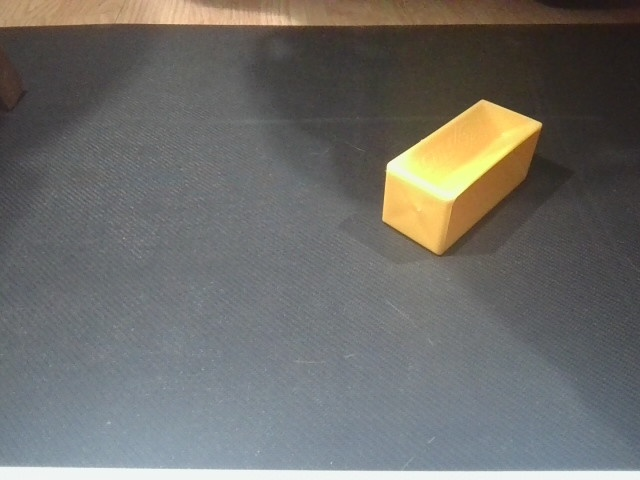YellowSample: (378, 96, 545, 258)
